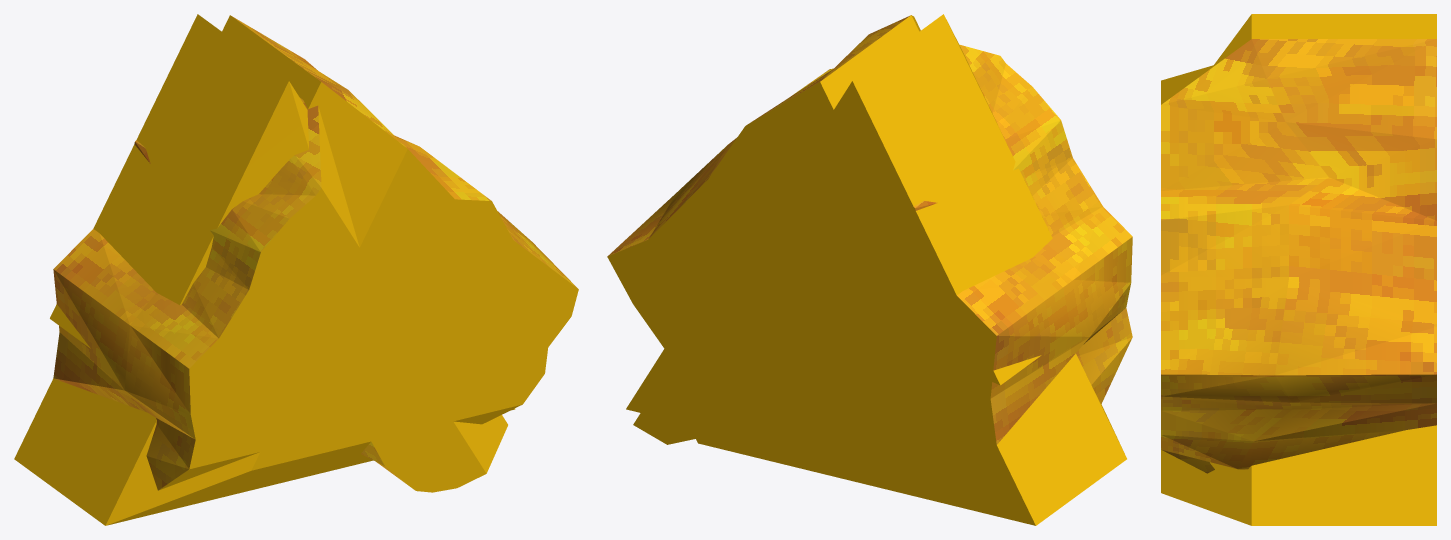
File: triforce_shards.glb
The picture shows the model from 3 angles, left to right: view 1: azimuth 30°, elevation 25°; view 2: azimuth 150°, elevation 25°; view 3: azimuth 270°, elevation 25°; orthographic projection.
Parts seen in each view (by area): view 1: tri2, tri3, tri1; view 2: tri2, tri1, tri3; view 3: tri2, tri3, tri1.
Boxes of the visible parts, x1=… form: tri2: x1=14, y1=15, x2=578, y2=525; tri3: x1=53, y1=98, x2=515, y2=490; tri1: x1=50, y1=14, x2=507, y2=492; tri2: x1=607, y1=15, x2=1126, y2=525; tri1: x1=633, y1=14, x2=1052, y2=458; tri3: x1=626, y1=44, x2=1132, y2=481; tri2: x1=1161, y1=39, x2=1436, y2=473; tri3: x1=1161, y1=64, x2=1436, y2=515; tri1: x1=1161, y1=14, x2=1436, y2=525.
Size of the model in its own units: 28.79 by 25.67 by 15.46.
Materials: 4 (3 with a texture image).
